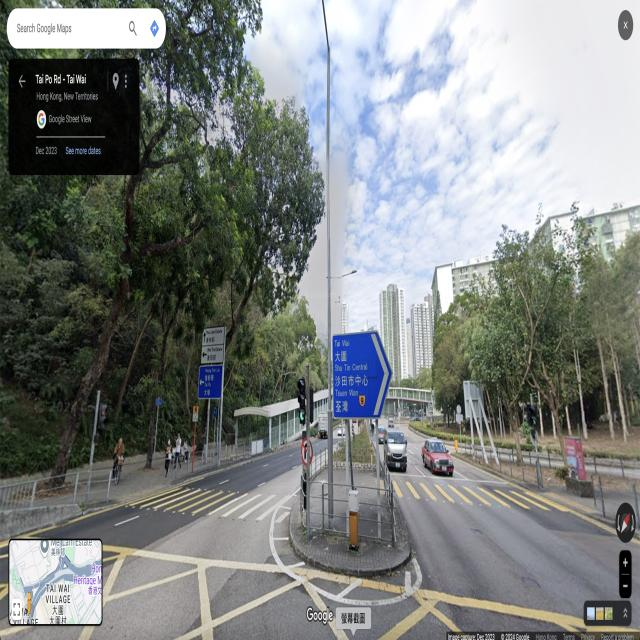Direction-Sign: (333, 331, 392, 419), (198, 366, 222, 399), (202, 329, 223, 362)
Order-Sign: (193, 405, 198, 422)
